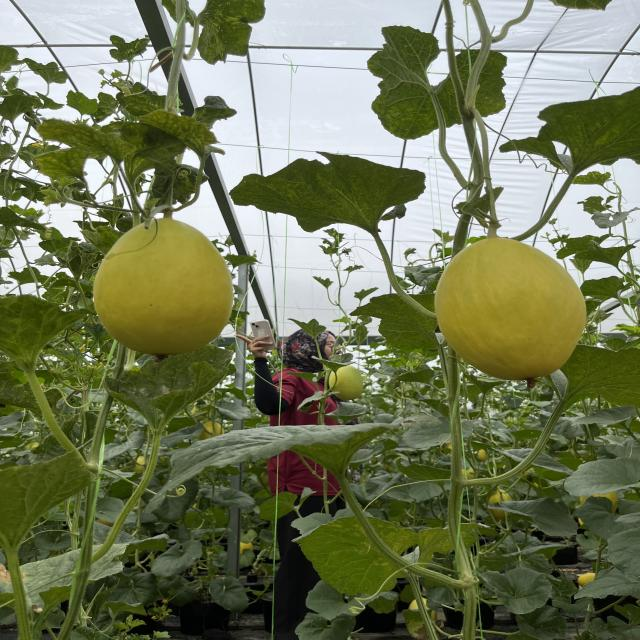CMV: (145, 109, 219, 154), (46, 118, 120, 153), (32, 152, 94, 178)
SLCV: (110, 345, 233, 426)
downy mildew: (223, 142, 432, 242), (178, 418, 388, 489), (291, 509, 444, 602), (497, 83, 640, 180), (156, 0, 266, 63), (351, 292, 444, 366), (0, 293, 89, 366), (104, 33, 150, 66)
healthy: (356, 22, 465, 146), (0, 454, 97, 536), (564, 344, 640, 408), (494, 496, 576, 536), (482, 568, 553, 614), (563, 458, 640, 496), (600, 530, 640, 577)
